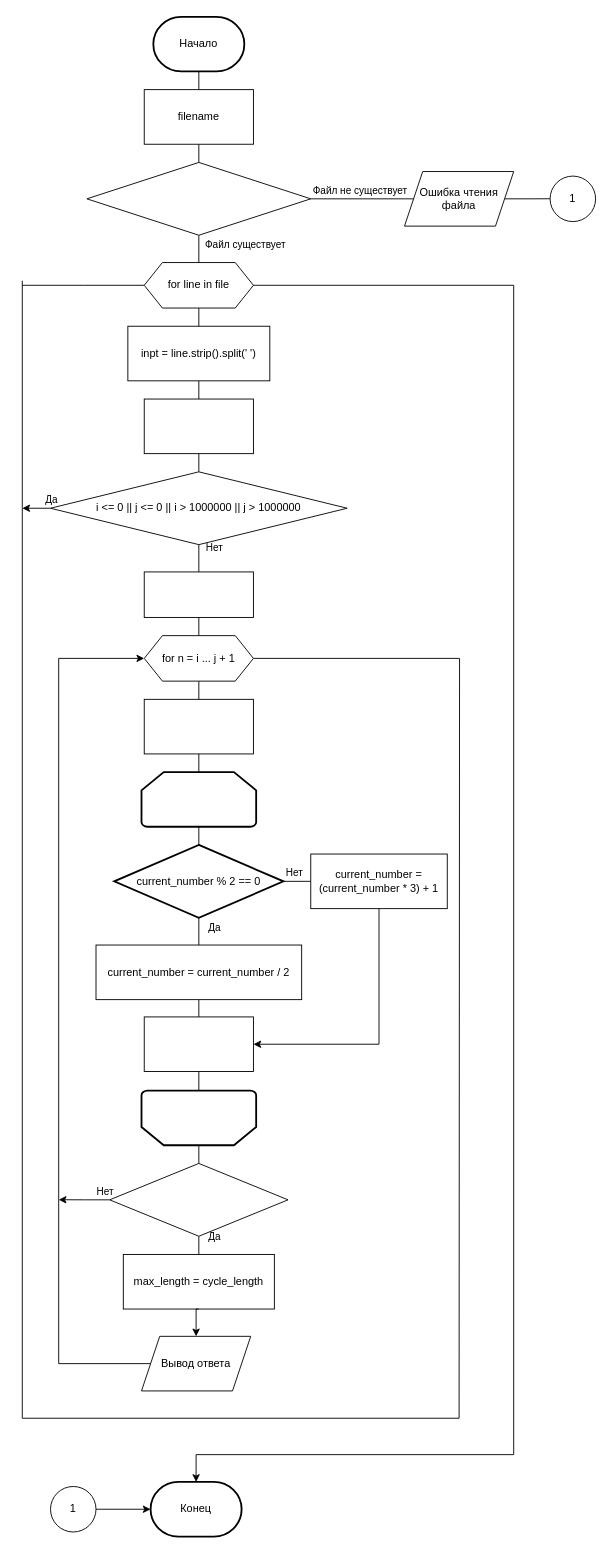
The diagram is 612 pixels wide and 1552 high, and some of its shapes have lost their labels. Here are the shapes that lost their labels. From the top down, the centre of each, then its label:
At (198,198): "file = открывание файла filename".
At (198,426): "i = int(inpt[0]) j = int(inpt[1])".
At (198,594): "max_length = 0".
At (198,726): "current_number = n cycle_length = 1".
At (198,799): "current_number != 1".
At (198,1044): "cycle_length += 1".
At (198,1199): "cycle_length > max_length".
